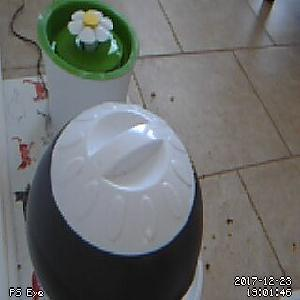fountain: (35, 1, 140, 82)
